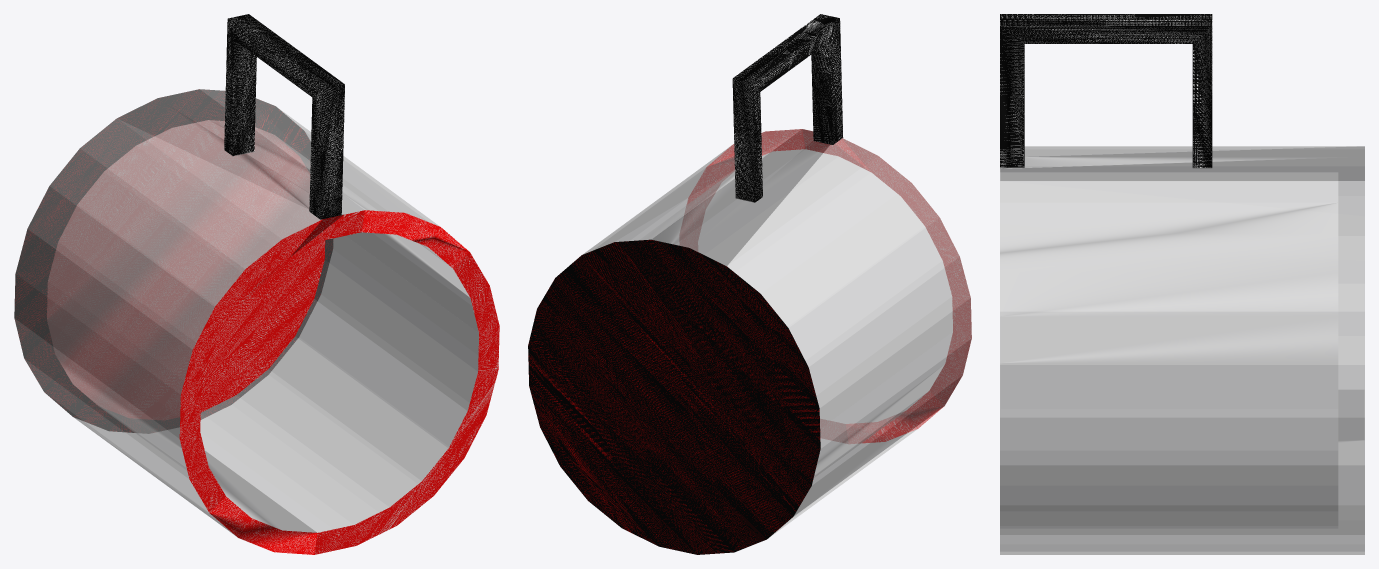
Rendered from model_align.obj.
The picture shows the model from 3 angles, left to right: view 1: azimuth 30°, elevation 25°; view 2: azimuth 150°, elevation 25°; view 3: azimuth 270°, elevation 25°; orthographic projection. The views are drawn at different scales.
Size of the model in its own units: 0.0907 by 0.1259 by 0.0812.
